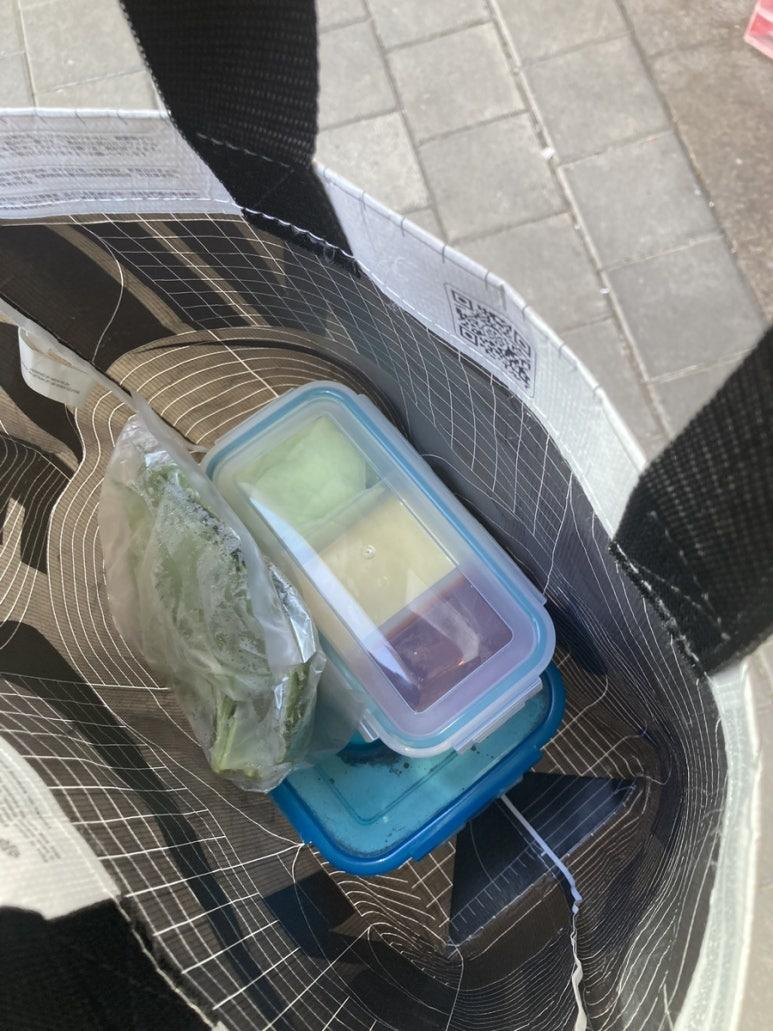Lunch Box: (203, 382, 554, 756), (273, 663, 564, 874)
